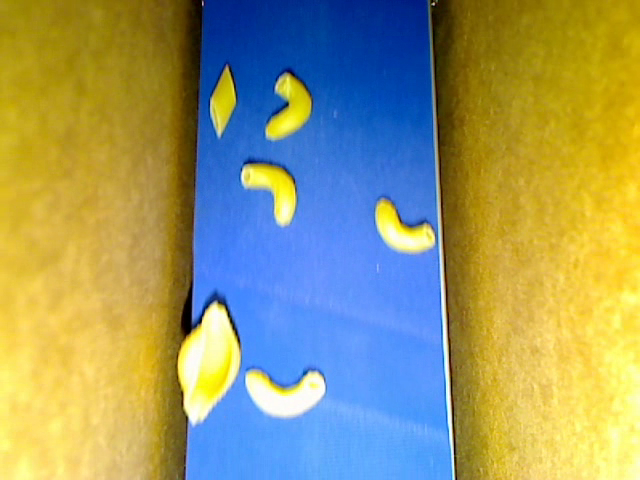elbow: (245, 367, 328, 417), (241, 163, 297, 226), (264, 72, 312, 140), (375, 197, 433, 253)
penne: (209, 63, 237, 138)
shell: (177, 302, 243, 425)
